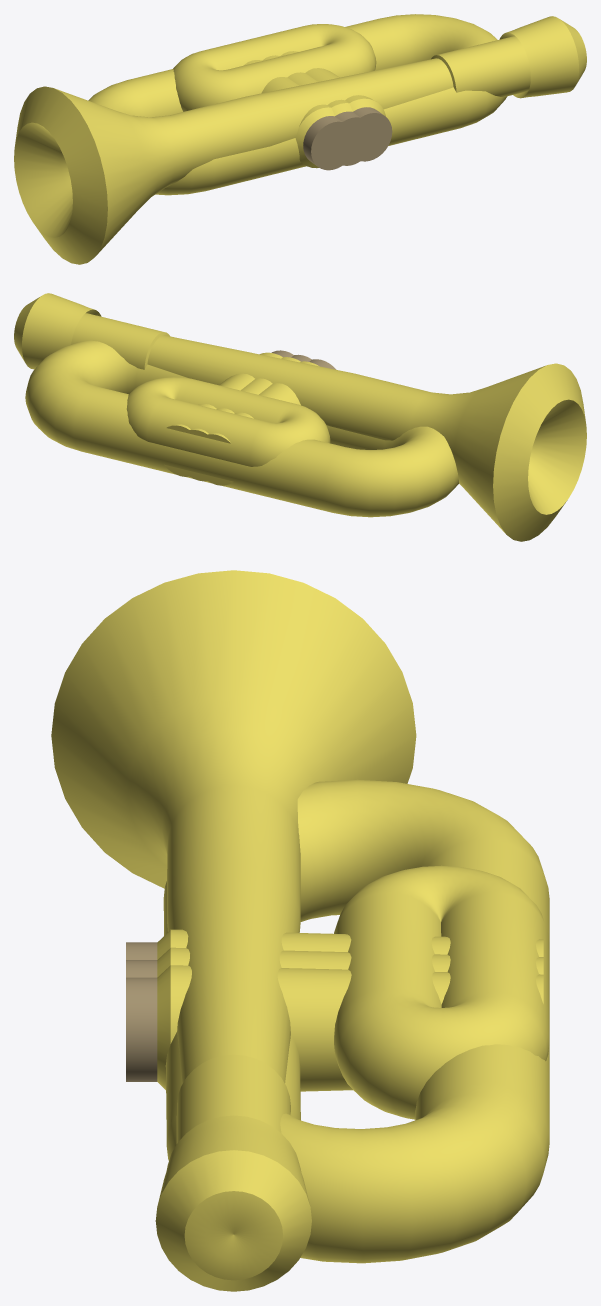
File: Trumpet_1.fbx
The picture shows the model from 3 angles, top to bottom: view 1: azimuth 30°, elevation 25°; view 2: azimuth 150°, elevation 25°; view 3: azimuth 270°, elevation 25°; orthographic projection. The views are drawn at different scales.
Visible parts, largest first — view 1: Cylinder.008; view 2: Cylinder.008; view 3: Cylinder.008.
Boxes of the visible parts, x1,y1,x2,y2 form: Cylinder.008: (14, 14, 586, 264); Cylinder.008: (14, 293, 586, 541); Cylinder.008: (51, 570, 549, 1291).
Size of the model in its own units: 73.69 by 21.84 by 29.81.
